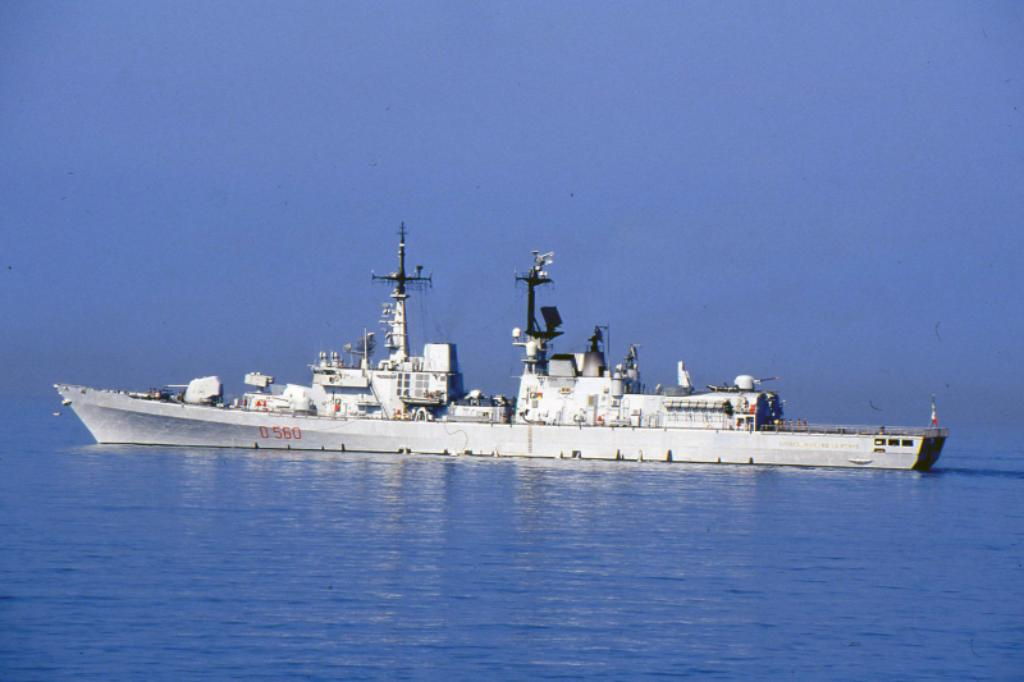Warship: (52, 219, 950, 475)
